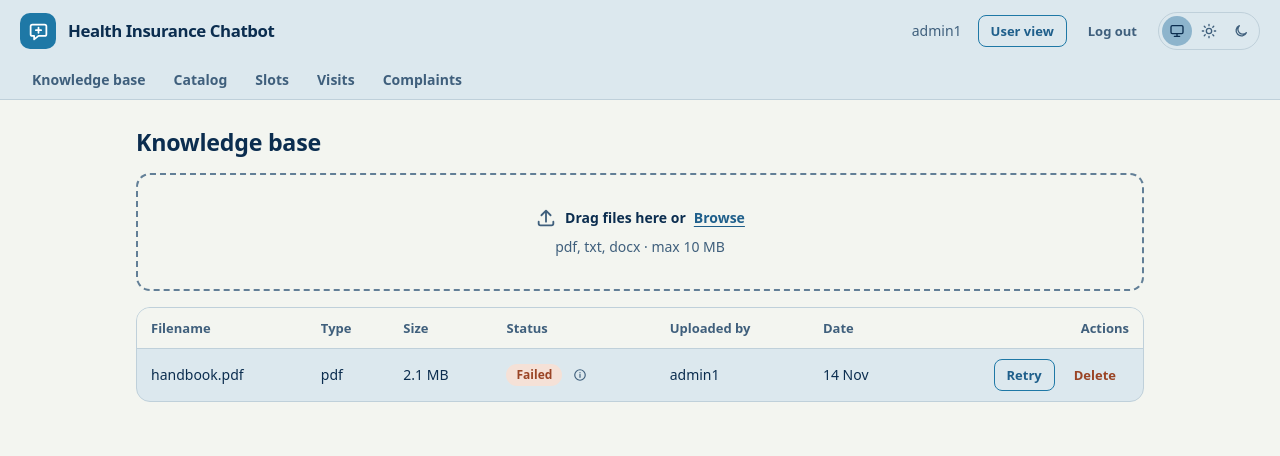
it: AdminKbPage › G5: a failed row shows its error message on demand
Click the button with test id "kb-error-toggle" at x=580, y=375, box x1=566 y1=363 x2=594 y2=387
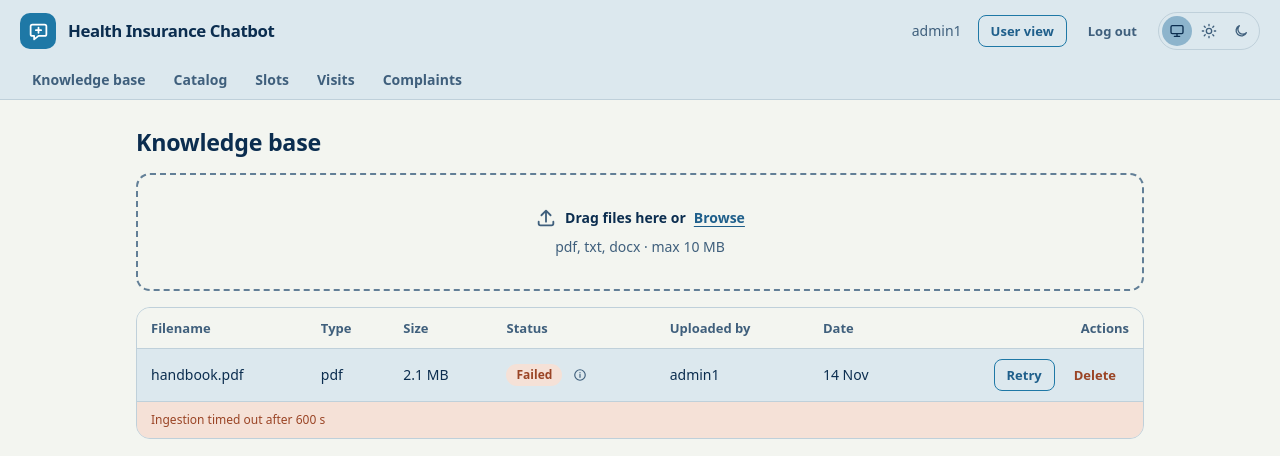
Result: the cell with test id "kb-error-message" reads "Ingestion timed out after 600 s" at x1=151 y1=411 x2=325 y2=428
